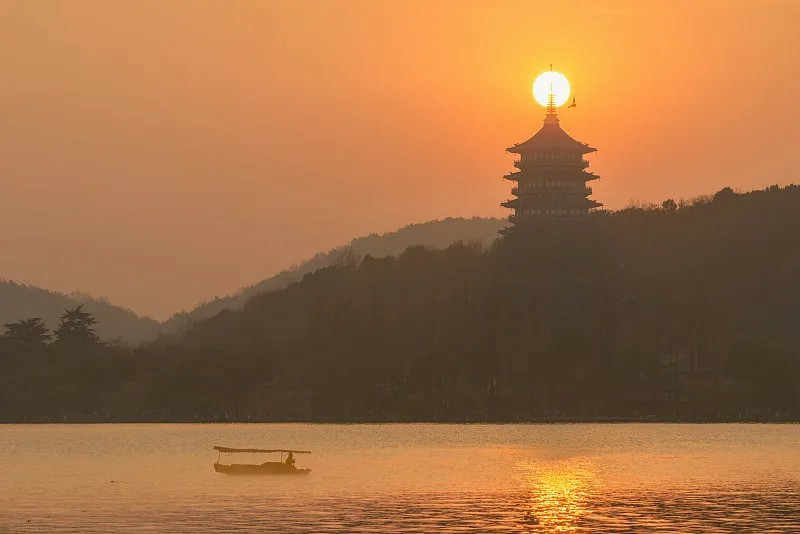Leifeng: (496, 65, 609, 236)
